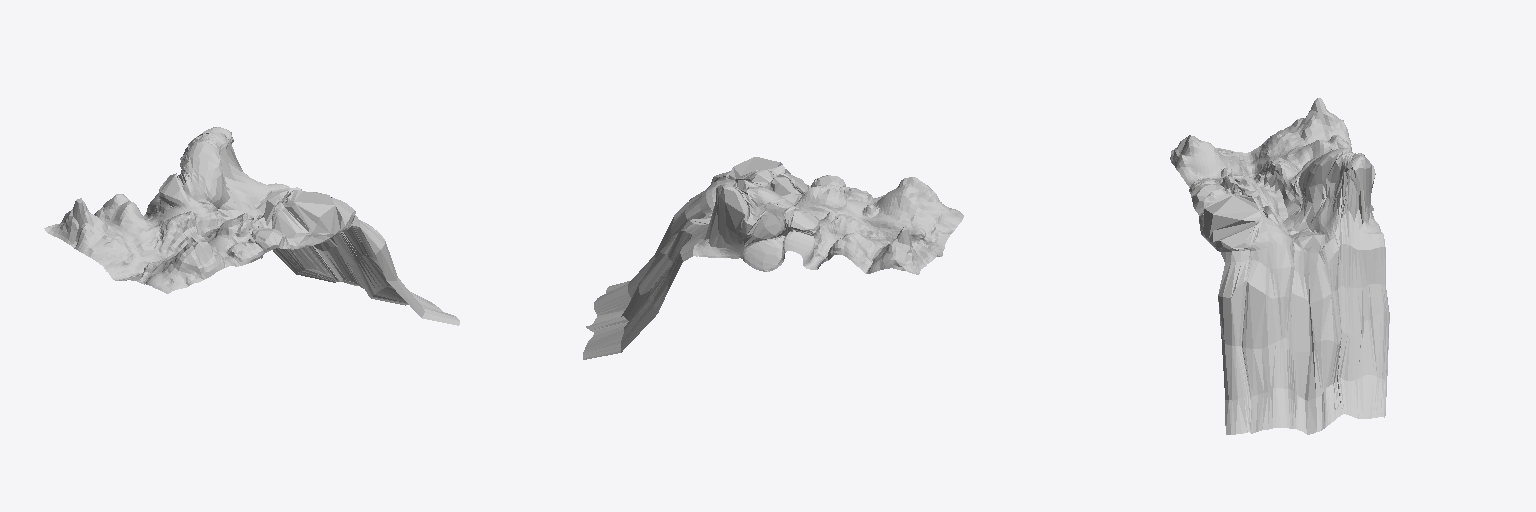
Rendered from mountain.obj.
3 views of the same model, side by side, from view 1: azimuth 30°, elevation 25°; view 2: azimuth 150°, elevation 25°; view 3: azimuth 270°, elevation 25° (orthographic).
Visible parts, largest first — view 1: Plane_Plane.001; view 2: Plane_Plane.001; view 3: Plane_Plane.001.
Part boxes in pixels (x1,y1,x2,y2): Plane_Plane.001: (44,127,459,325); Plane_Plane.001: (583,157,963,359); Plane_Plane.001: (1170,98,1389,434).
Bounding box in the file's own units: 19.82 × 10.41 × 10.45.